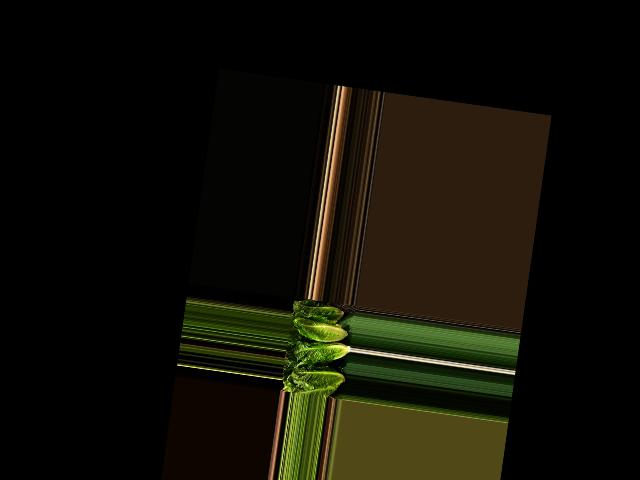lettuce: (291, 301, 343, 323)
